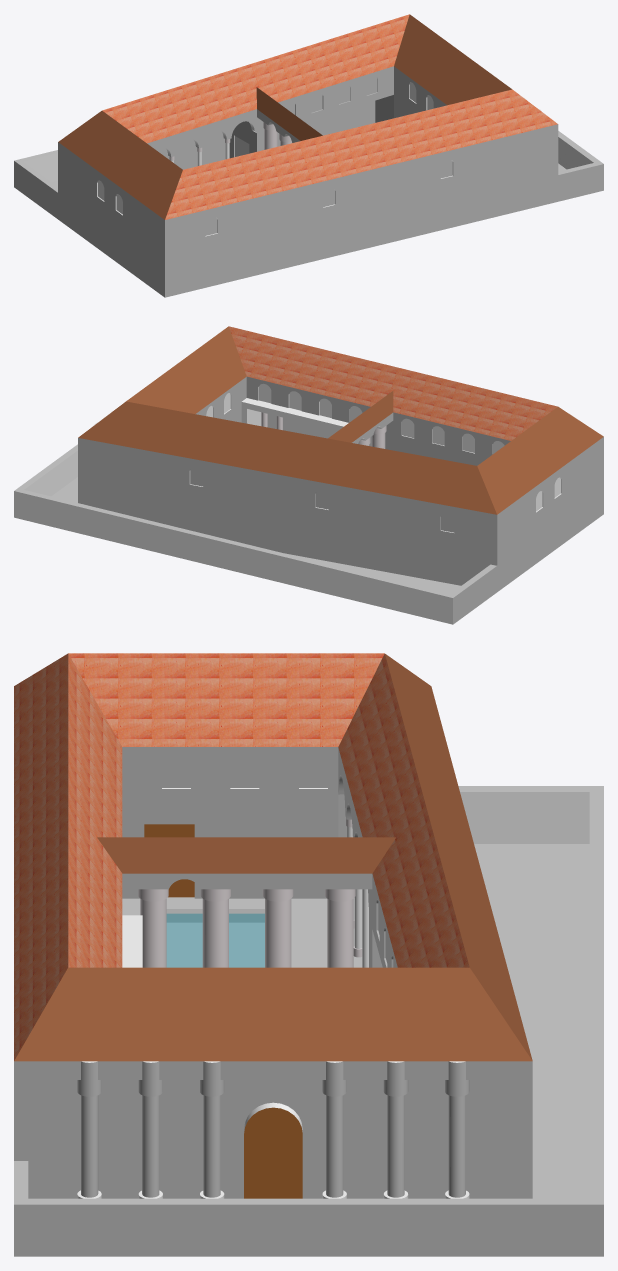
Rendered from Roman Villa.fbx.
3 renders of one model, top to bottom at view 1: azimuth 30°, elevation 25°; view 2: azimuth 150°, elevation 25°; view 3: azimuth 270°, elevation 25°, orthographic. The views are drawn at different scales.
Parts seen in each view (by area): view 1: Model; view 2: Model; view 3: Model.
Part boxes in pixels (x1=…): Model: x1=14, y1=14, x2=603, y2=297; Model: x1=14, y1=326, x2=603, y2=624; Model: x1=14, y1=653, x2=603, y2=1256.
Size of the model in its own units: 1058 by 253 by 630.
